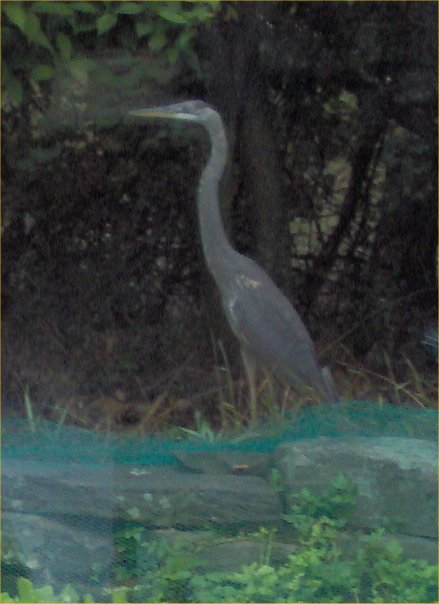heron: (119, 92, 337, 449)
